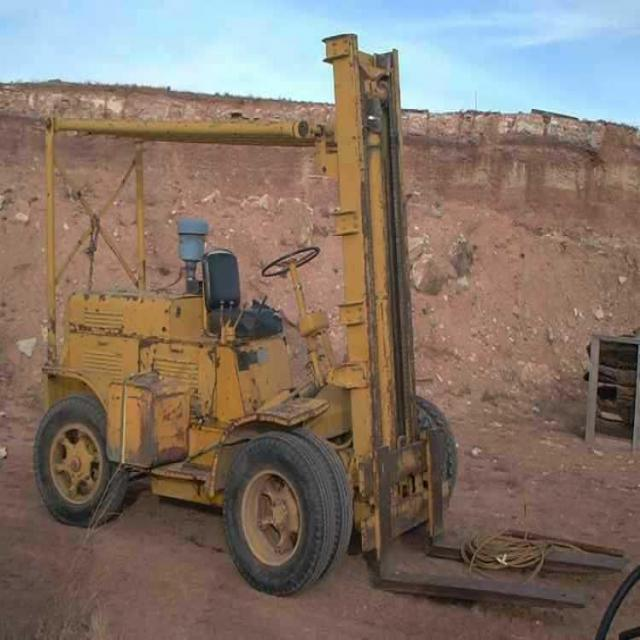forklift: (34, 32, 629, 609)
